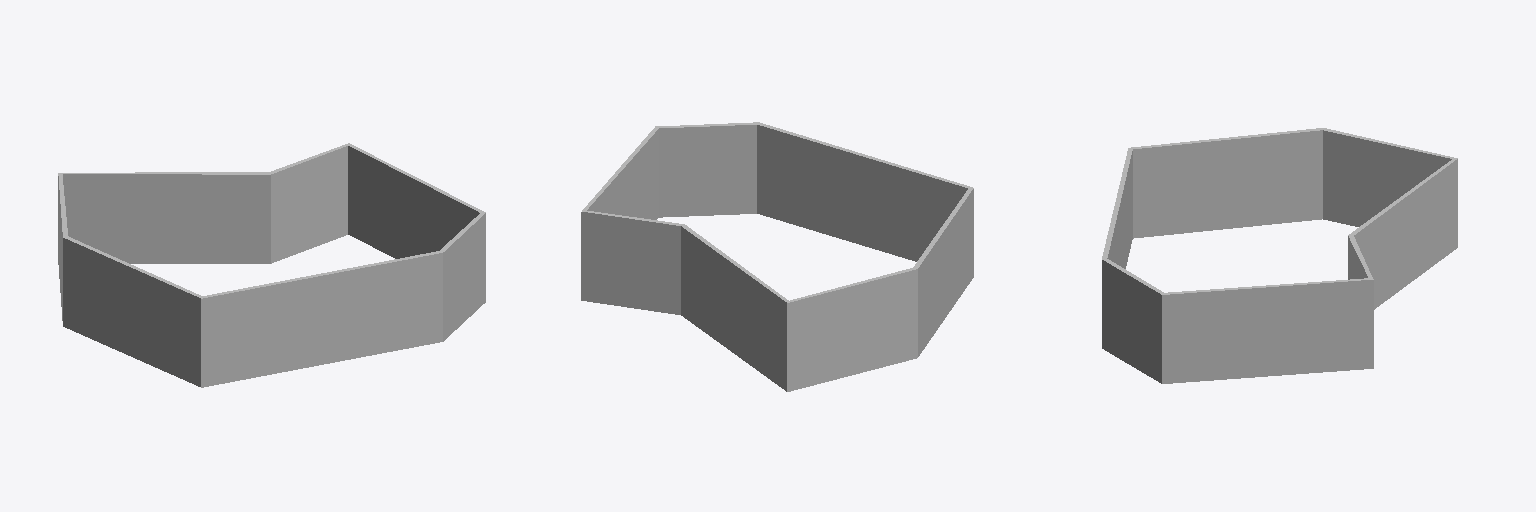
The model's file is gate12.obj.
3 views of the same model, side by side, from view 1: azimuth 30°, elevation 25°; view 2: azimuth 150°, elevation 25°; view 3: azimuth 270°, elevation 25° (orthographic).
Visible parts, largest first — view 1: Cylinder; view 2: Cylinder; view 3: Cylinder.
Boxes of the visible parts, box(x1,y1,x2,y2) form: Cylinder: box(58, 143, 485, 387); Cylinder: box(581, 122, 973, 391); Cylinder: box(1102, 128, 1457, 383).
Bounding box in the file's own units: 2.01 × 0.5 × 1.81.